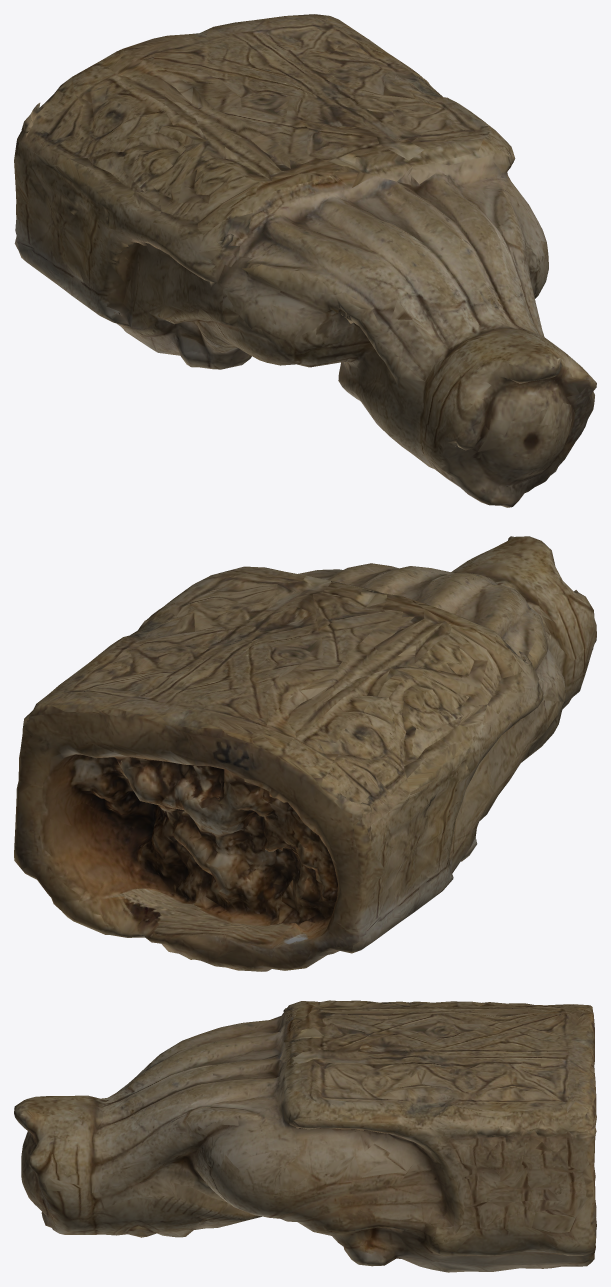
The model's file is king.glb.
3 views of the same model, one above another, from view 1: azimuth 30°, elevation 25°; view 2: azimuth 150°, elevation 25°; view 3: azimuth 270°, elevation 25° (orthographic). The views are drawn at different scales.
Parts seen in each view (by area): view 1: king_2_lewisKing82; view 2: king_2_lewisKing82; view 3: king_2_lewisKing82.
Boxes of the visible parts, <box> form: king_2_lewisKing82: <box>14,14,596,507</box>; king_2_lewisKing82: <box>14,536,596,971</box>; king_2_lewisKing82: <box>14,1000,596,1272</box>.
Size of the model in its own units: 2.29 by 1.56 by 4.05.
Materials: 1 (1 with a texture image).
